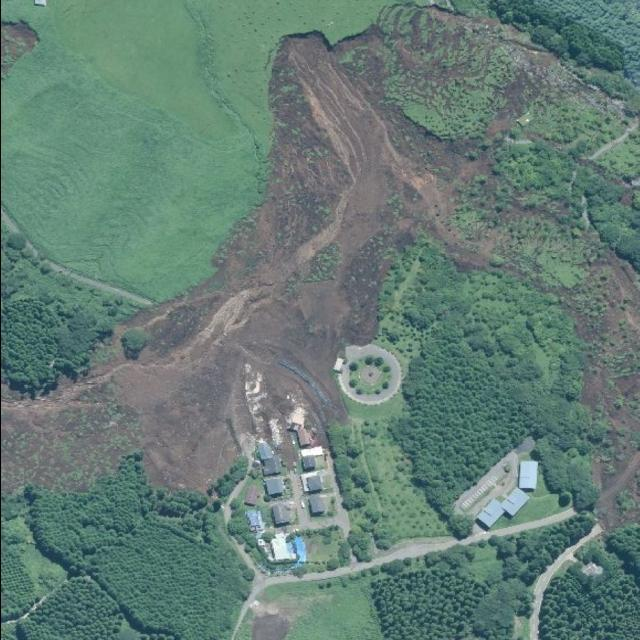landslide: (2, 4, 639, 491)
